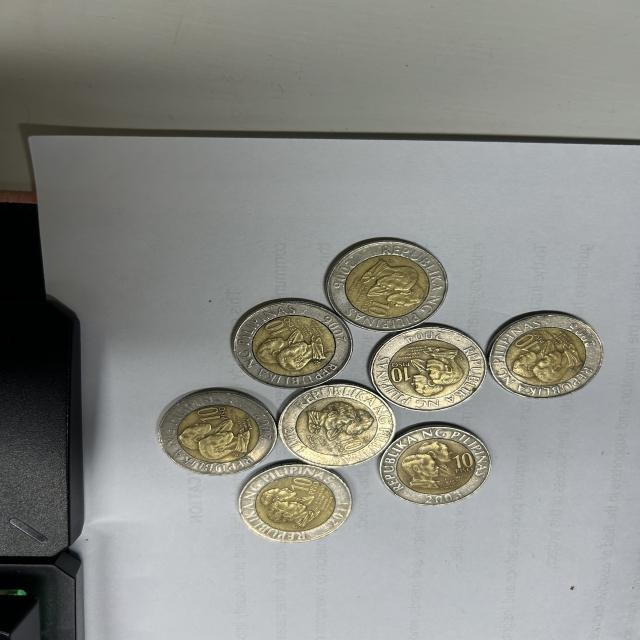10_Old_Front: (195, 405, 225, 423), (452, 450, 476, 470), (514, 335, 540, 352), (338, 435, 365, 450), (263, 318, 288, 334), (368, 300, 392, 316), (289, 476, 313, 492), (391, 366, 413, 383)
